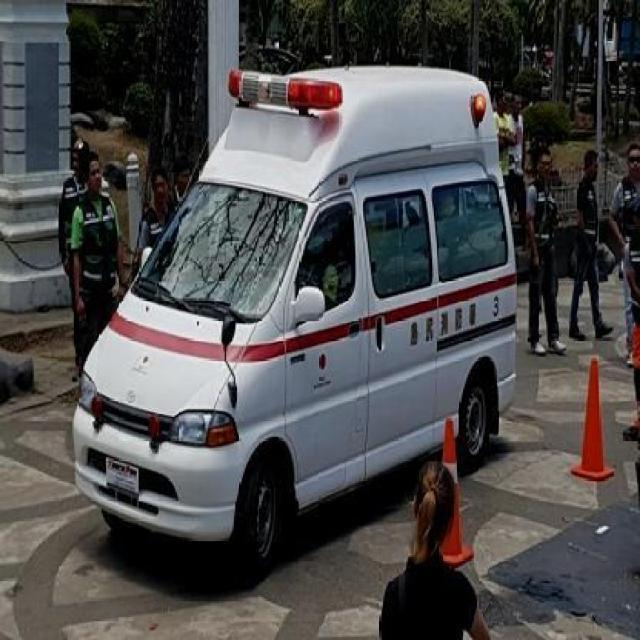emergency: (67, 59, 517, 569)
